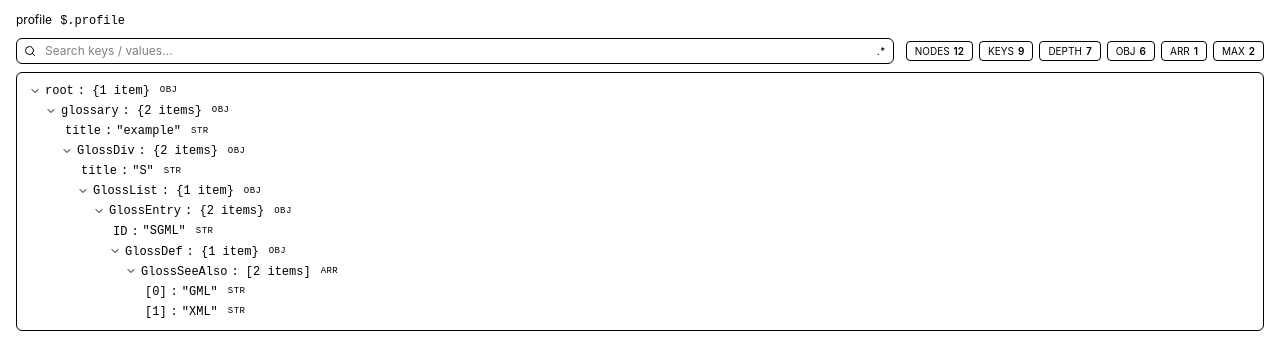
Test: DocumentTreePanel › regex toggle switches the search to JS regex matching
Click the checkbox with test id "document-tree-regex-toggle".
click(881, 50)  # box [877, 44, 886, 56]
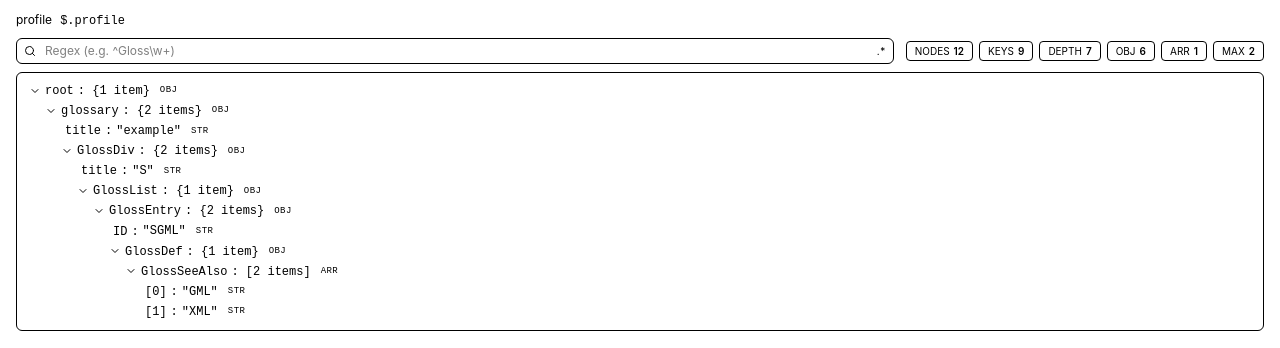
Type "^Gloss(List|Entry)$" into the field with test id "document-tree-search".
click(455, 51); type("^Gloss(List|Entry)$")  # box [16, 38, 894, 64]
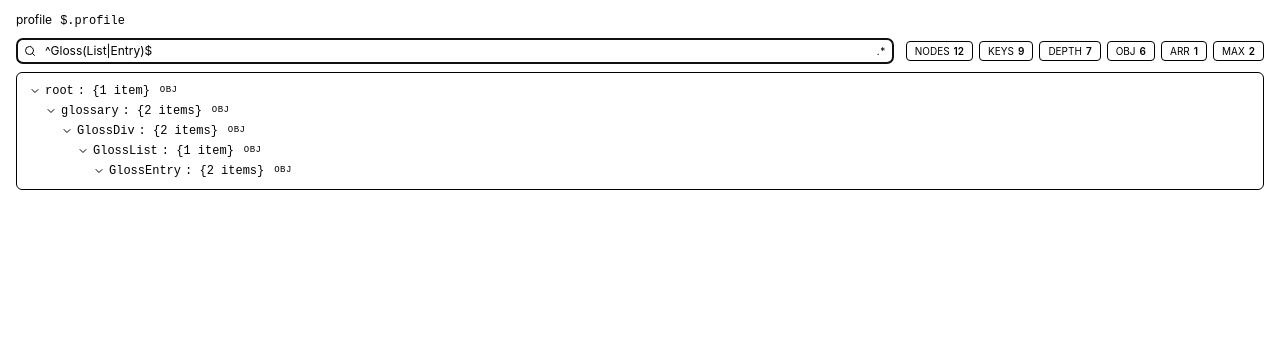
Expected: the list item with test id "tree-node-glossary.GlossDiv.GlossList" is shown, [77, 144, 261, 158]
Expected: the list item with test id "tree-node-glossary.title" is gone
